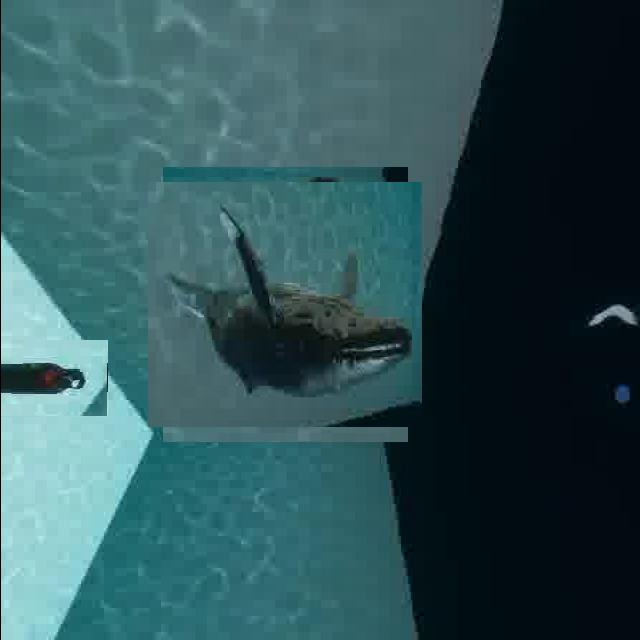Cylinder: (0, 340, 107, 417)
Whale: (154, 174, 414, 434)
